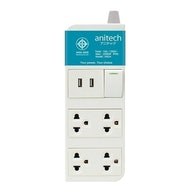Three_eye_plug: (58, 19, 131, 187)
